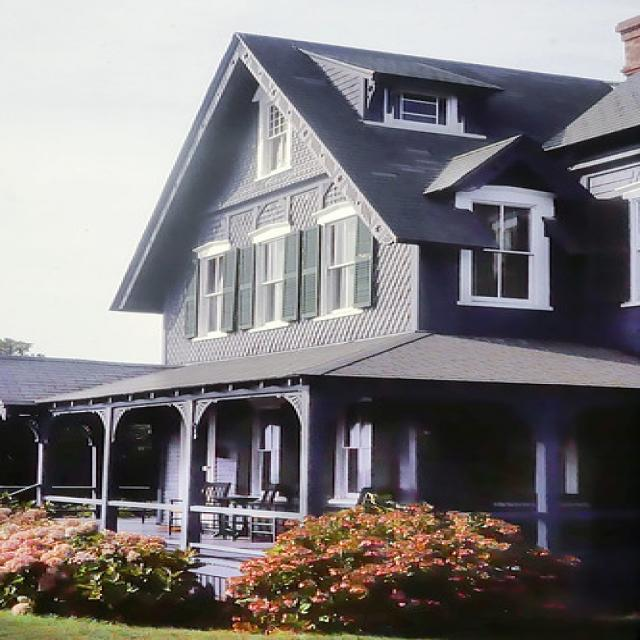Normal_building: (19, 26, 640, 608)
